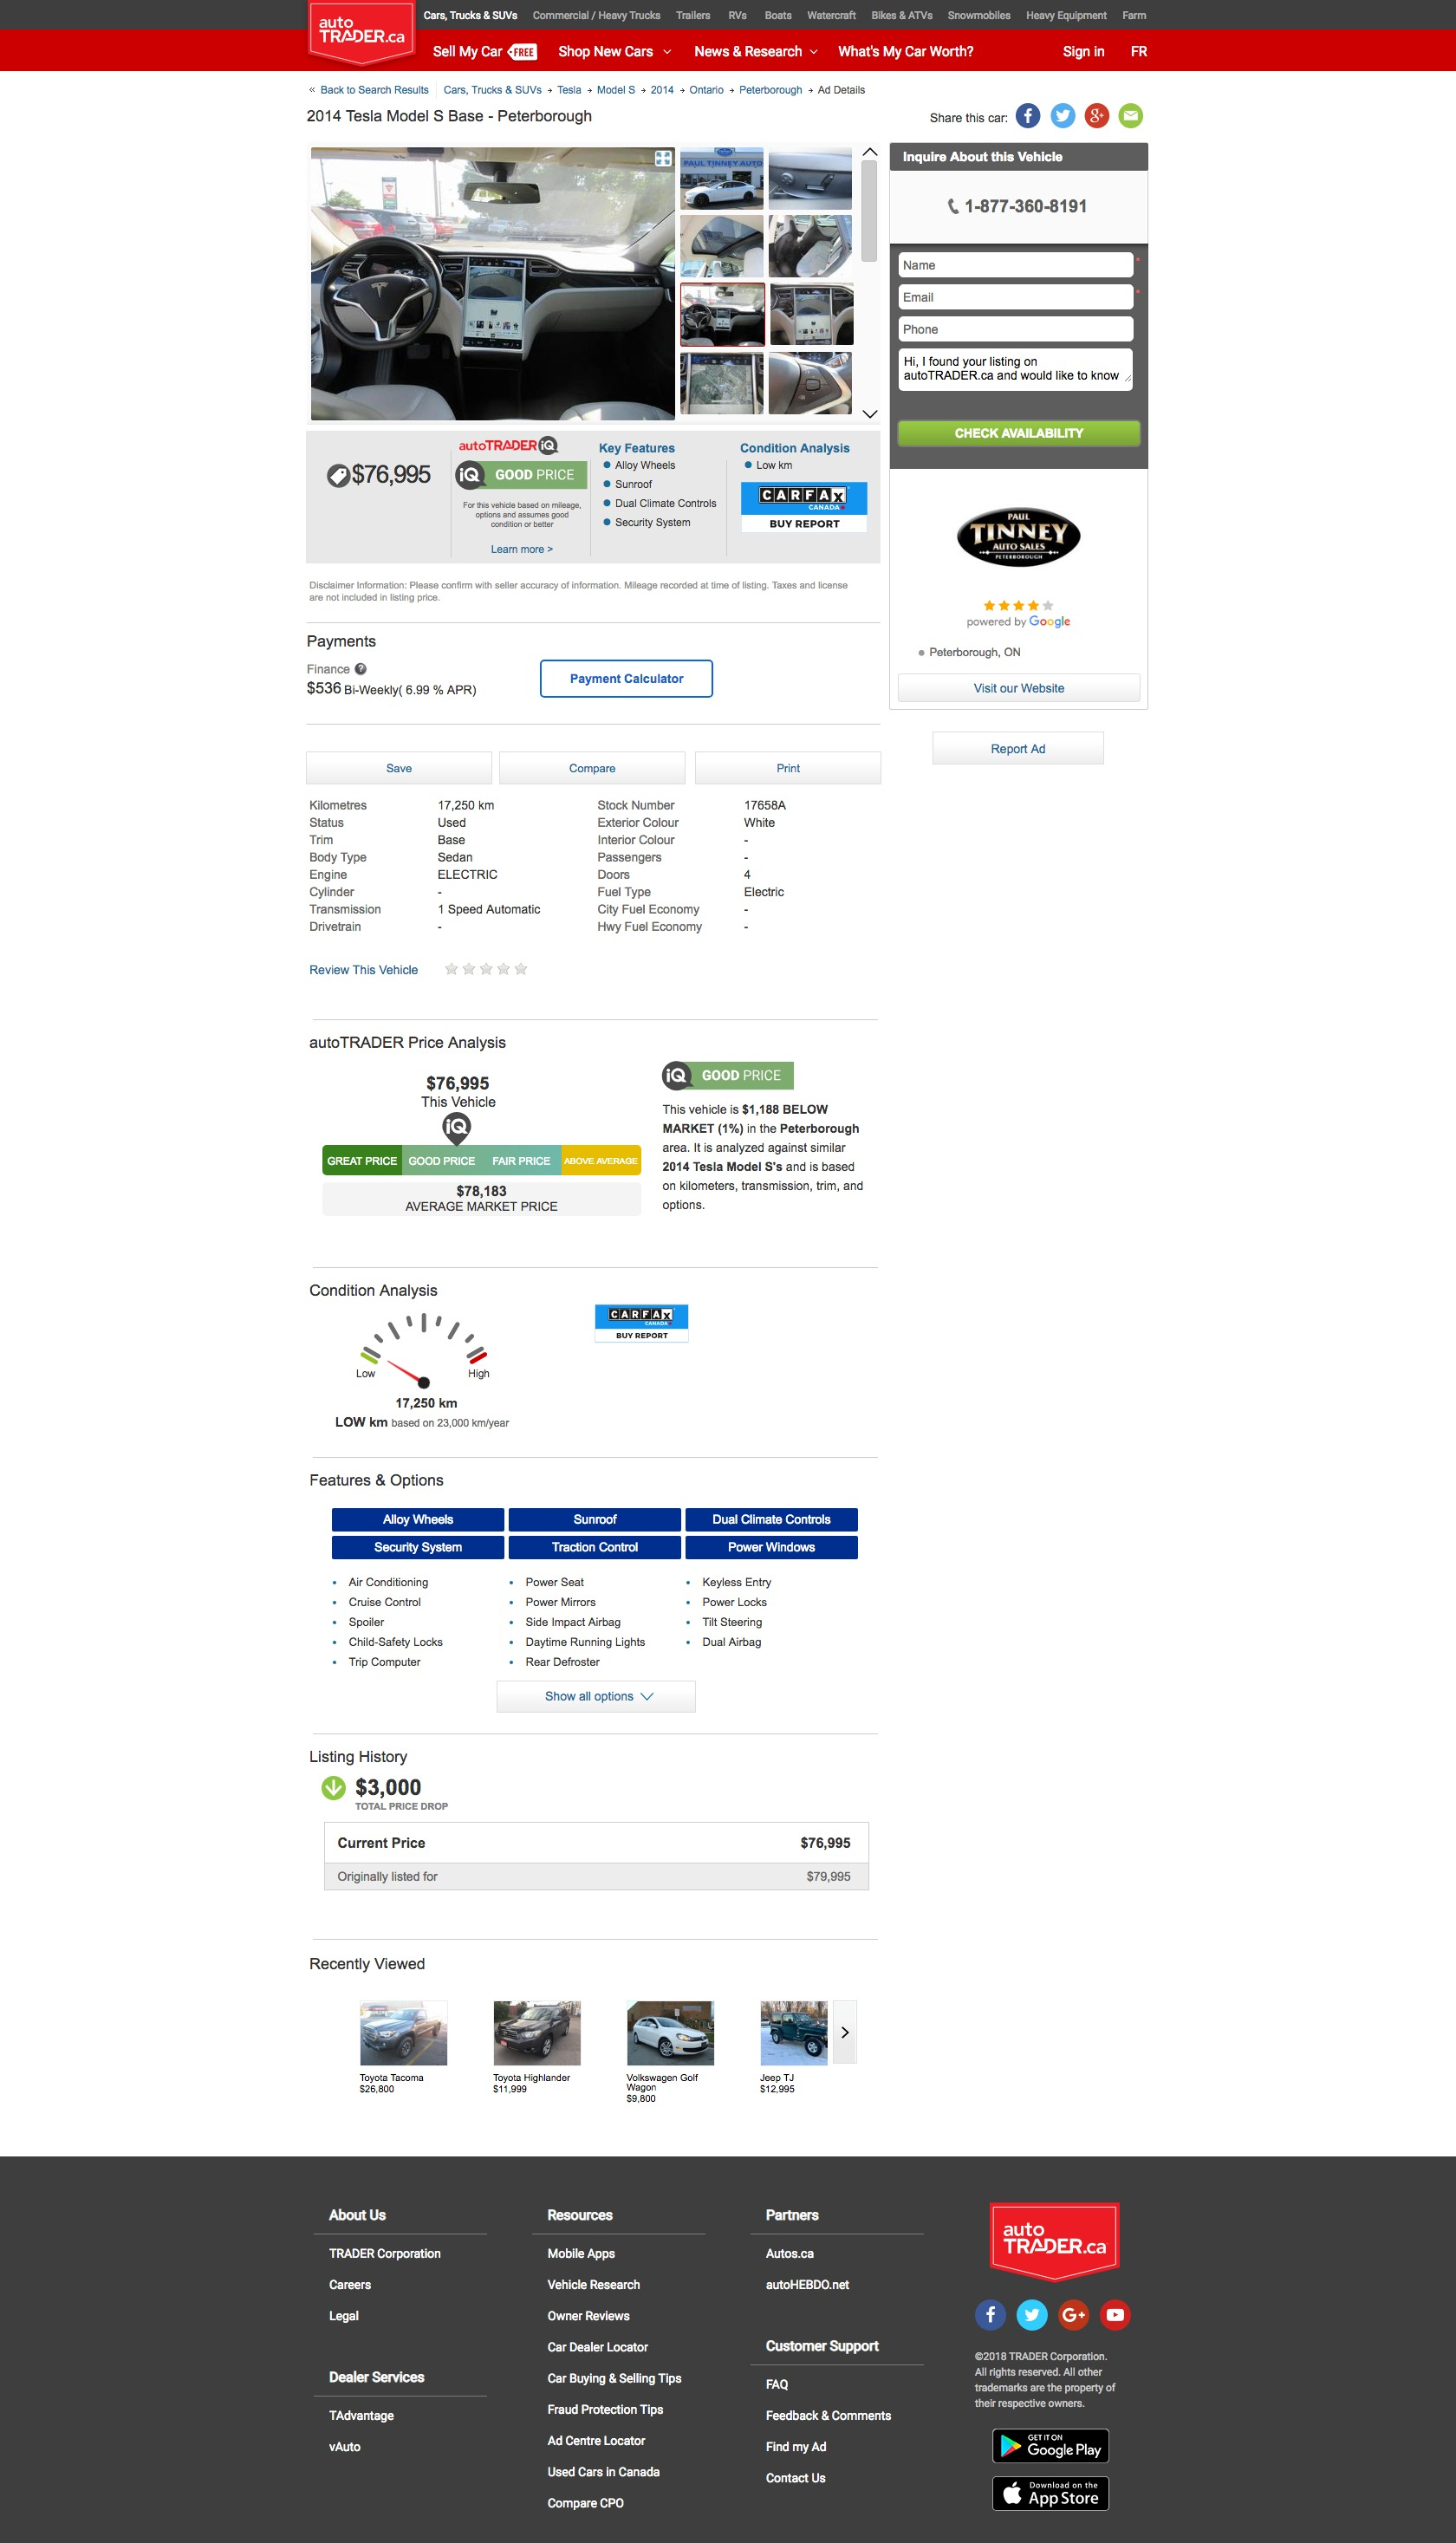car: (862, 409, 880, 421)
